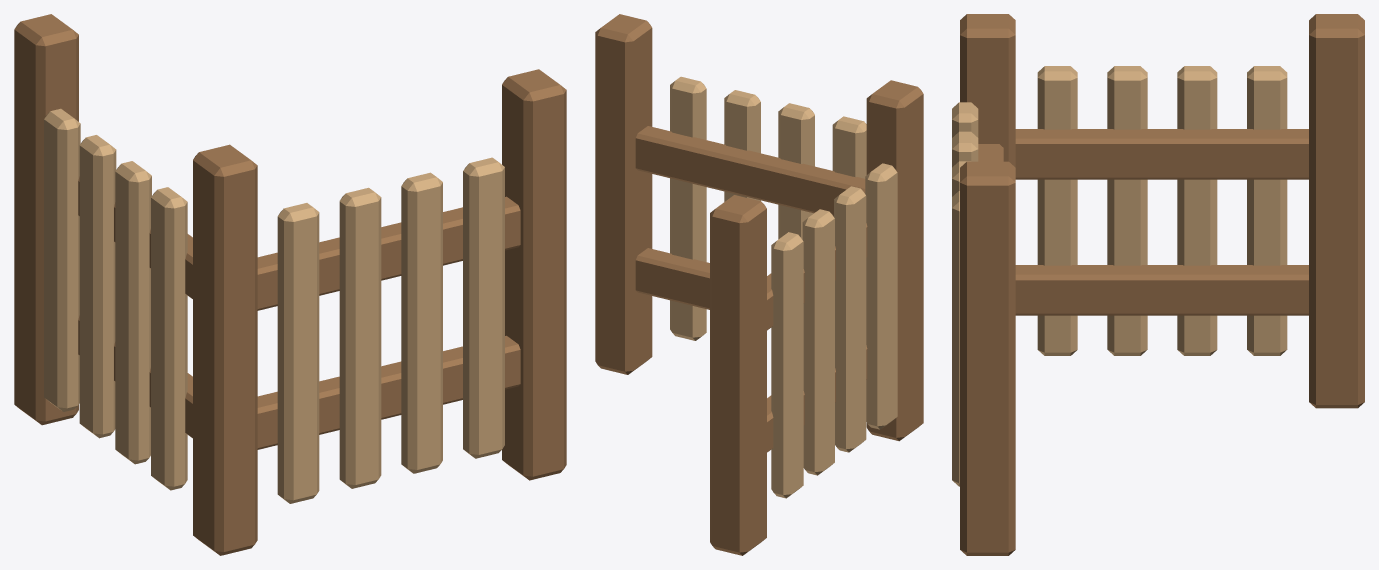
3 views of the same model, side by side, from view 1: azimuth 30°, elevation 25°; view 2: azimuth 150°, elevation 25°; view 3: azimuth 270°, elevation 25° (orthographic). The views are drawn at different scales.
Parts seen in each view (by area): view 1: village-fence-corner-01; view 2: village-fence-corner-01; view 3: village-fence-corner-01.
Boxes of the visible parts, left/top/right/bottom form: village-fence-corner-01: left=14, top=14, right=566, bottom=555; village-fence-corner-01: left=595, top=14, right=923, bottom=555; village-fence-corner-01: left=952, top=14, right=1364, bottom=555.
Bounding box in the file's own units: 1.17 × 1.2 × 1.18.
